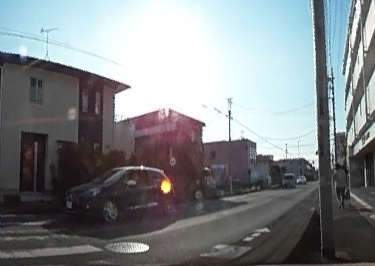person: (332, 161, 348, 206)
